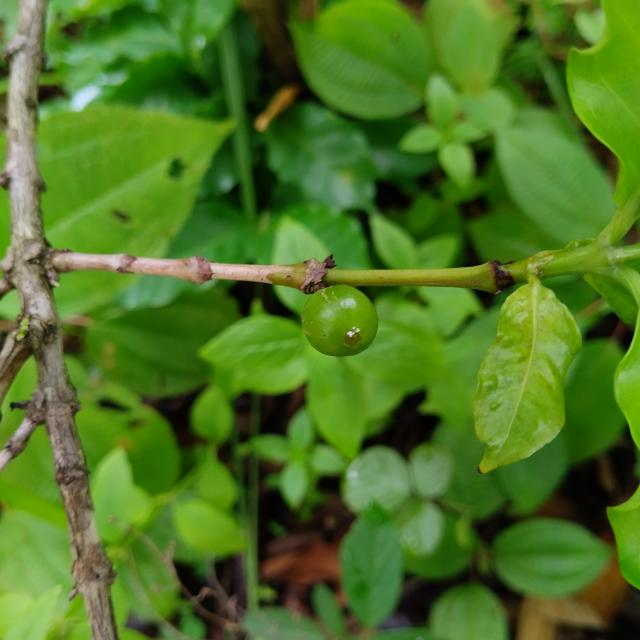green: (302, 285, 379, 357)
